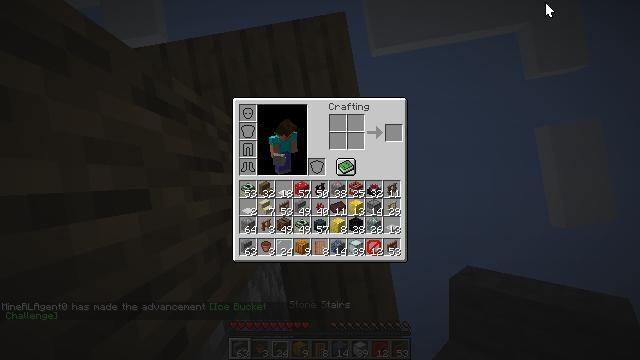cursor: (545, 2, 555, 18)
